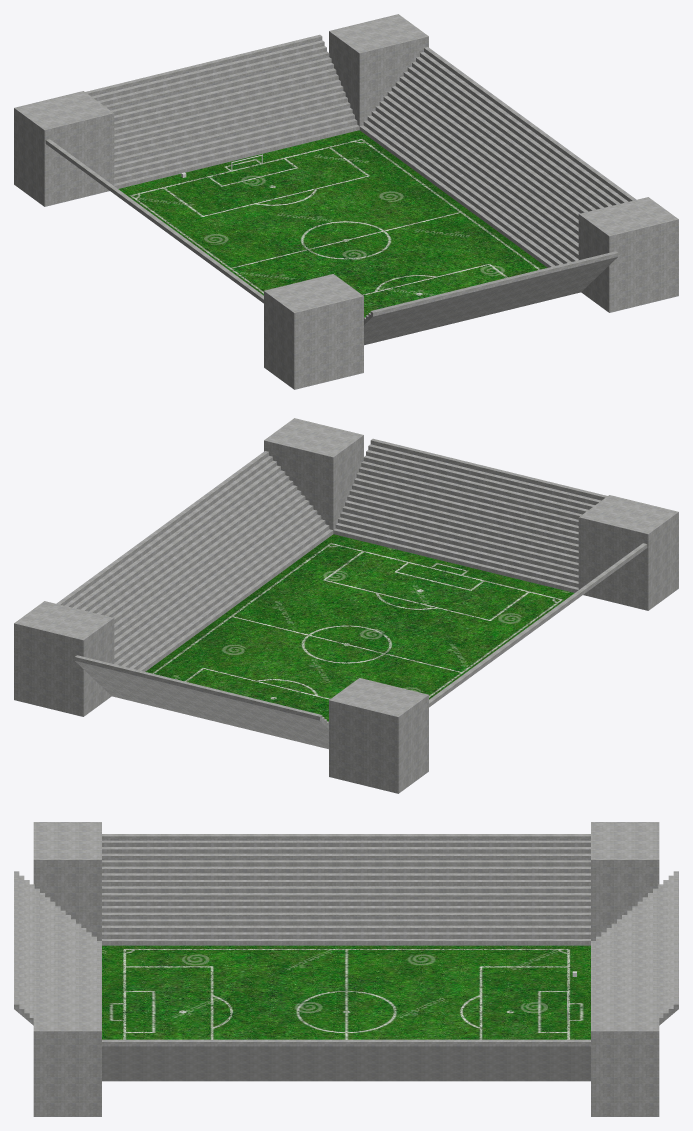
The picture shows the model from 3 angles, top to bottom: view 1: azimuth 30°, elevation 25°; view 2: azimuth 150°, elevation 25°; view 3: azimuth 270°, elevation 25°; orthographic projection. The views are drawn at different scales.
Visible parts, largest first — view 1: Gradas, Surface; view 2: Gradas, Surface; view 3: Gradas, Surface.
Boxes of the visible parts, x1,y1,x2,y2 form: Gradas: (14, 14, 678, 389); Surface: (118, 130, 547, 317); Gradas: (14, 418, 678, 793); Surface: (145, 534, 574, 721); Gradas: (14, 822, 678, 1116); Surface: (102, 945, 590, 1039).
Bounding box in the file's own units: 116 × 22.06 × 155.
3 materials, 3 textured.
